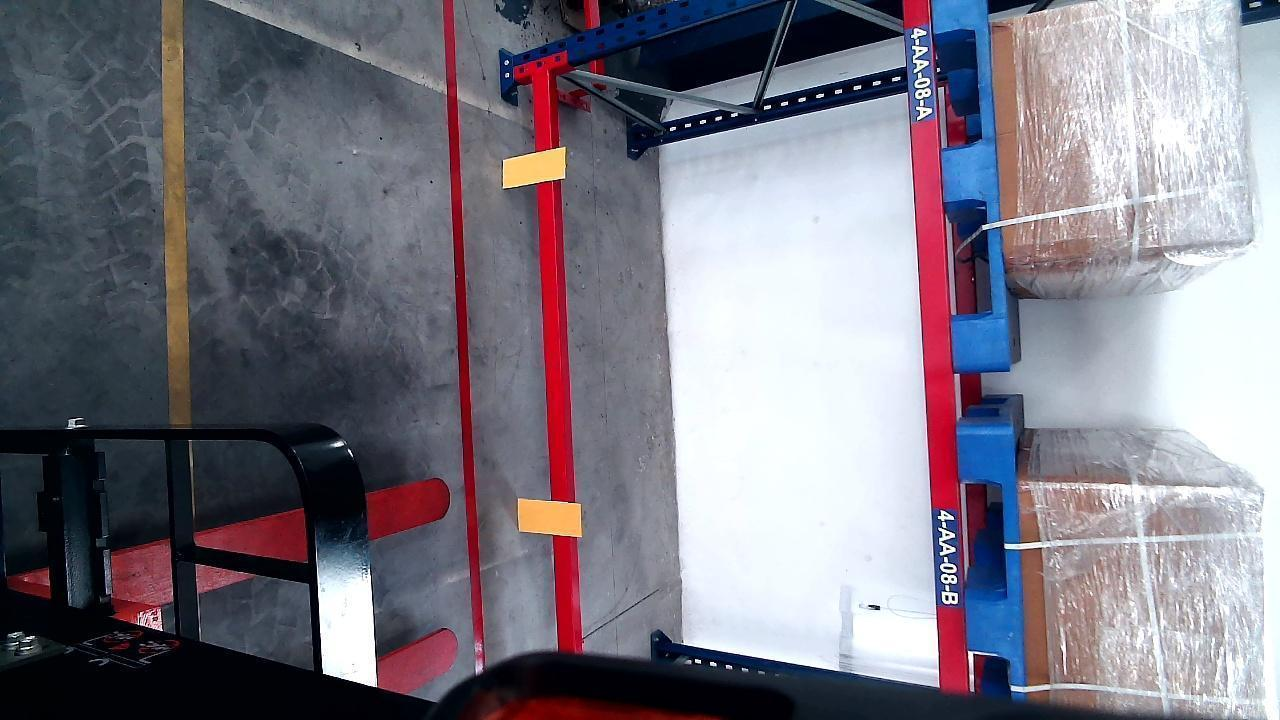red_line: (439, 0, 486, 671)
yellow_line: (164, 3, 191, 419)
